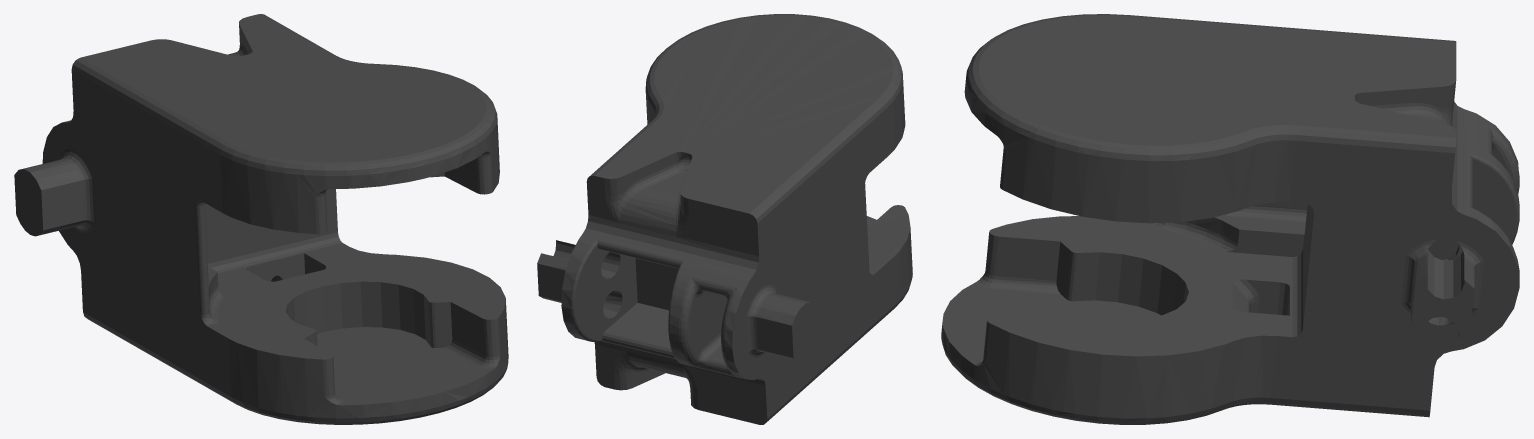
File: lh_ring_metacarpals_vis.obj
3 renders of one model, left to right at view 1: azimuth 30°, elevation 25°; view 2: azimuth 150°, elevation 25°; view 3: azimuth 270°, elevation 25°, orthographic. The views are drawn at different scales.
Parts seen in each view (by area): view 1: lh_ring_metacarpals; view 2: lh_ring_metacarpals; view 3: lh_ring_metacarpals.
Part boxes in pixels (bbox=[...]): lh_ring_metacarpals: bbox=[14, 14, 508, 424]; lh_ring_metacarpals: bbox=[537, 14, 912, 424]; lh_ring_metacarpals: bbox=[941, 14, 1519, 424].
Bounding box in the file's own units: 0.0202 × 0.0181 × 0.03.
Materials: 1 (1 with a texture image).
